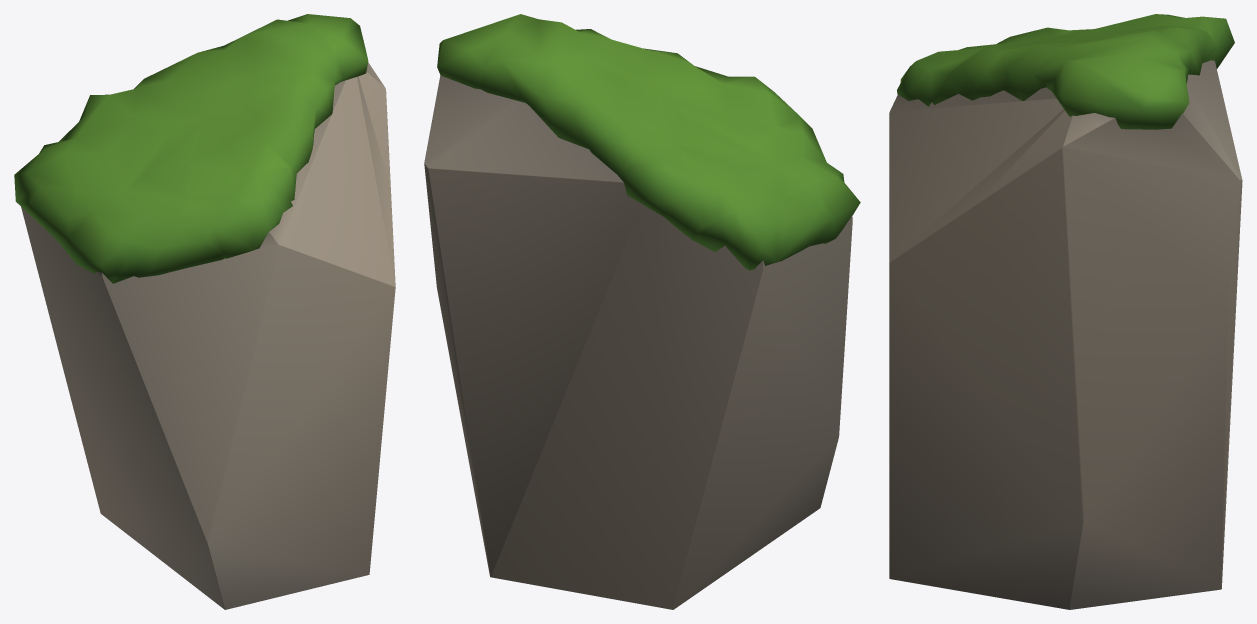
File: glade_pebble_boulder_c_lod1.glb
The picture shows the model from 3 angles, left to right: view 1: azimuth 30°, elevation 25°; view 2: azimuth 150°, elevation 25°; view 3: azimuth 270°, elevation 25°; orthographic projection. The views are drawn at different scales.
Parts seen in each view (by area): view 1: glade_pebble_boulder_c.001, moss.001; view 2: glade_pebble_boulder_c.001, moss.001; view 3: glade_pebble_boulder_c.001, moss.001.
Part boxes in pixels (<box>): glade_pebble_boulder_c.001: <box>21,62,395,609</box>; moss.001: <box>14,14,368,283</box>; glade_pebble_boulder_c.001: <box>424,75,852,609</box>; moss.001: <box>437,14,860,270</box>; glade_pebble_boulder_c.001: <box>889,60,1242,609</box>; moss.001: <box>897,14,1234,129</box>.
Bounding box in the file's own units: 5.13 × 6.88 × 4.
